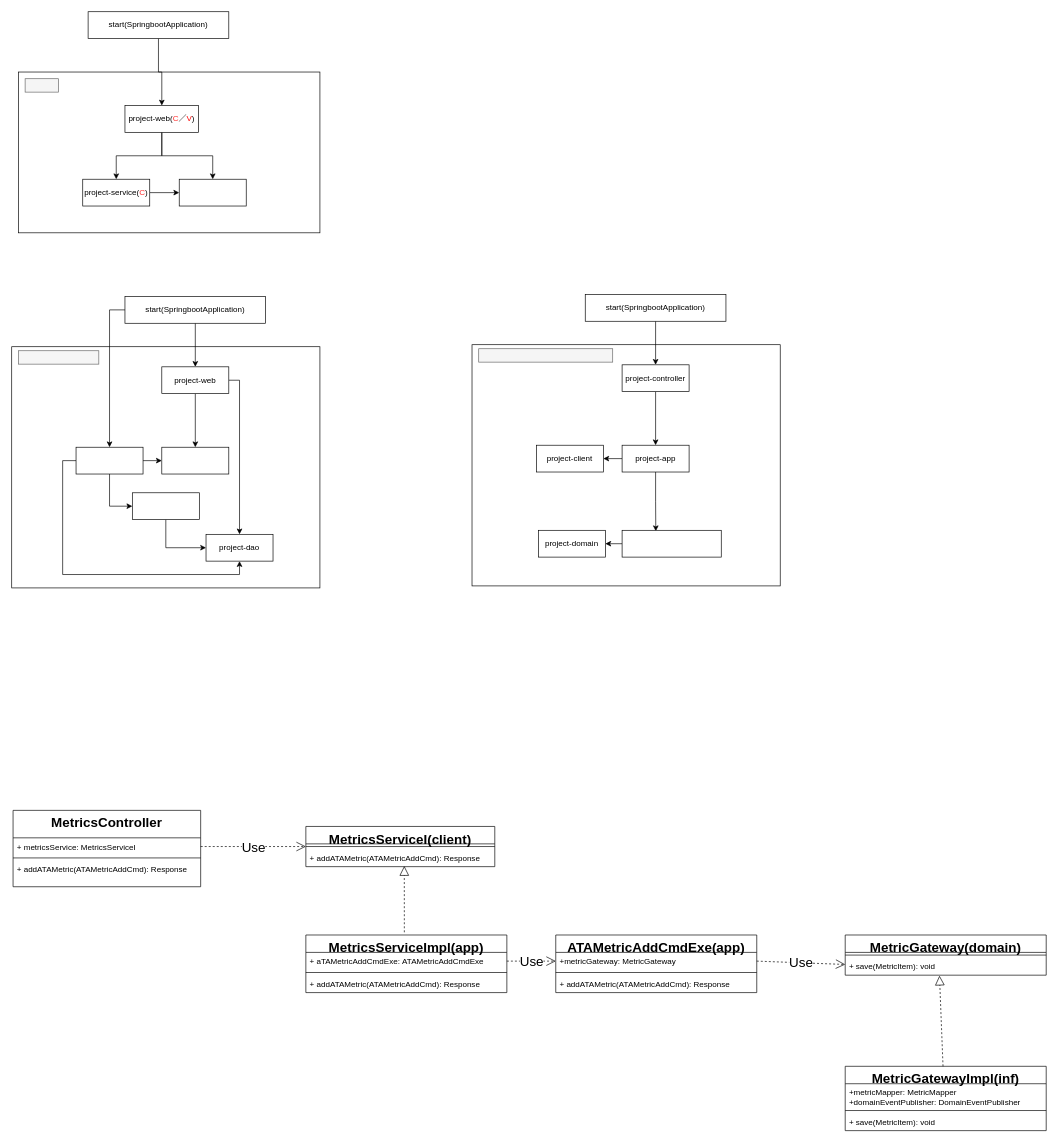
Some shapes in this 1058 by 1144 pixel diagram are drawn without their labels. Here are the shapes that lost their labels. From the top down, the centre of each, then its label:
At point 41,85: "MVC".
At point 212,192: "project-model( M )".
At point 58,357: "分层架构".
At point 545,355: "领域驱动COLA架构".
At point 109,460: "project-service".
At point 195,460: "project-api".
At point 165,506: "project-manager".
At point 671,543: "project-infrastructure".
